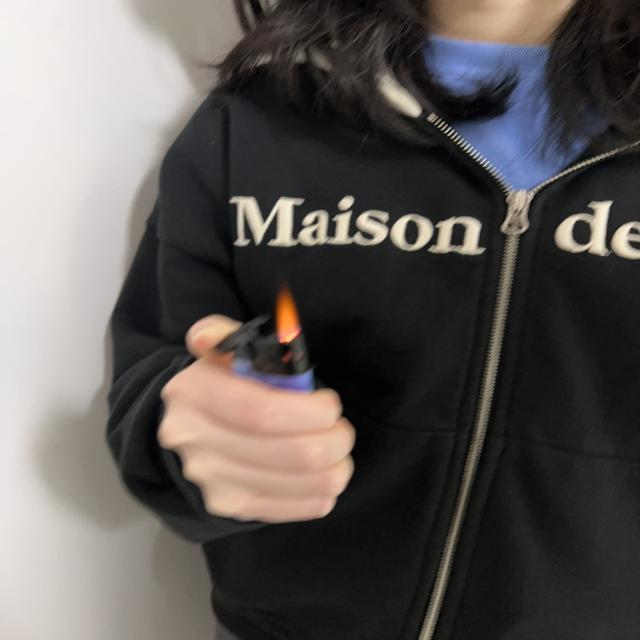fire: (275, 284, 303, 342)
